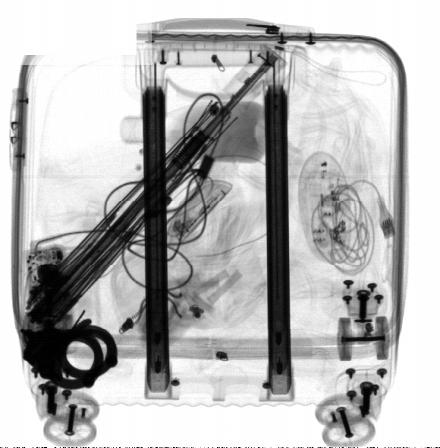HandCuffs: (18, 313, 118, 390)
